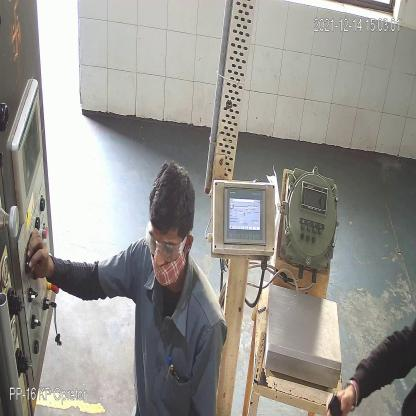goggles: (145, 232, 187, 263)
